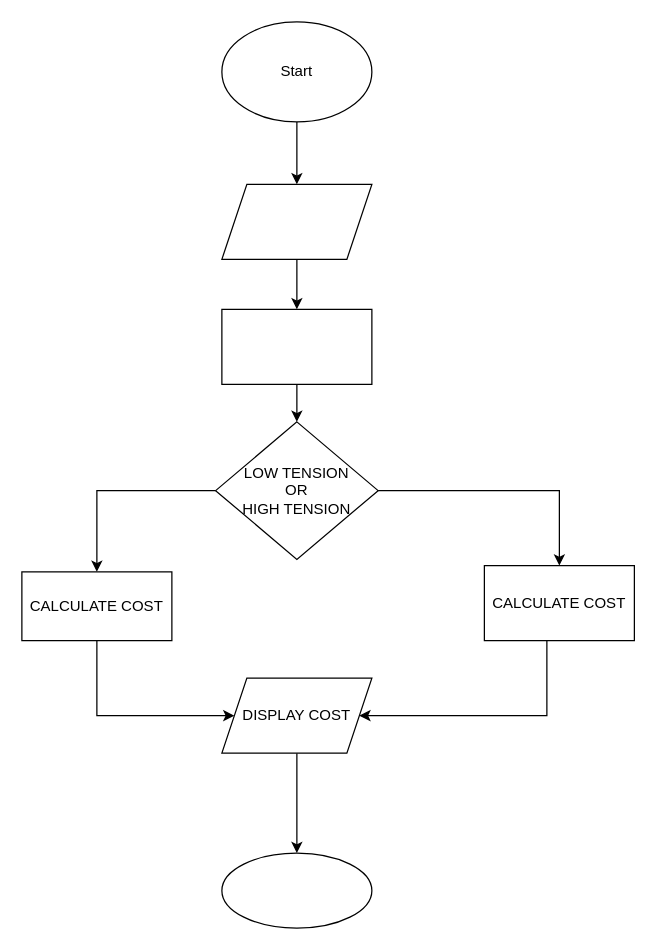
Image size: 656x950. Some labels were removed from this diagram. The centre of each missing label's shape, as x and y in pixels:
CALCULATE USAGE USING THE DATA: point (296, 346)
READ THE PARAMETERS: point (296, 221)
STOP: point (296, 890)
